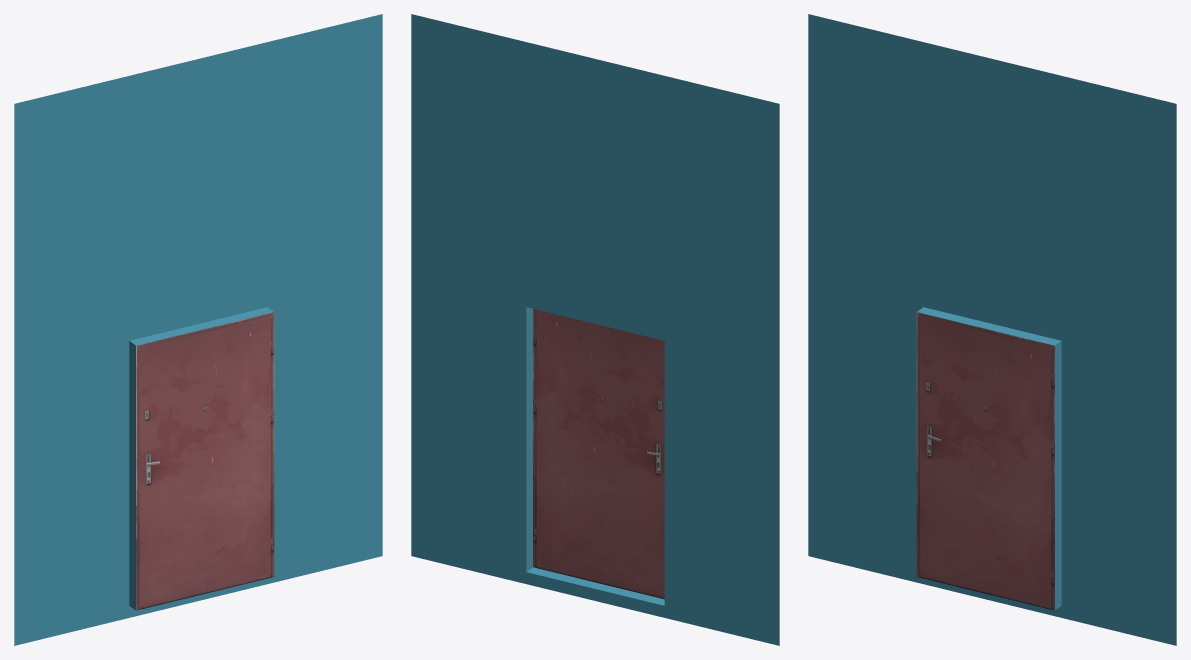
The model's file is FacadeFirstFloorB.FBX.
3 renders of one model, left to right at view 1: azimuth 30°, elevation 25°; view 2: azimuth 150°, elevation 25°; view 3: azimuth 330°, elevation 25°, orthographic.
Visible parts, largest first — view 1: FacadeFirstFloorB; view 2: FacadeFirstFloorB; view 3: FacadeFirstFloorB.
Part boxes in pixels (<box>): FacadeFirstFloorB: <box>14,14,382,645</box>; FacadeFirstFloorB: <box>411,14,779,645</box>; FacadeFirstFloorB: <box>808,14,1176,645</box>.
Bounding box in the file's own units: 320 × 450 × 10.
